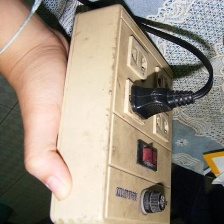three_eye_plug: (45, 0, 180, 224)
